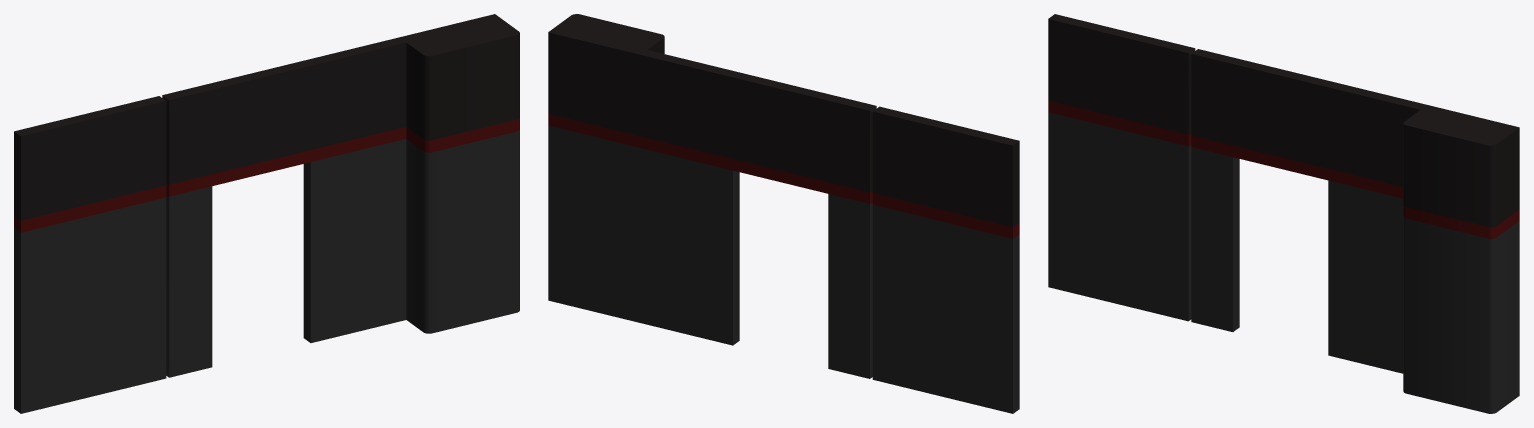
File: SM_wall_stc_01.fbx
3 views of the same model, side by side, from view 1: azimuth 30°, elevation 25°; view 2: azimuth 150°, elevation 25°; view 3: azimuth 330°, elevation 25° (orthographic). The views are drawn at different scales.
Parts seen in each view (by area): view 1: wall_stc_01; view 2: wall_stc_01; view 3: wall_stc_01.
Part boxes in pixels (x1,y1,x2,y2): wall_stc_01: (14,14,519,413); wall_stc_01: (548,14,1019,413); wall_stc_01: (1048,14,1519,413).
Bounding box in the file's own units: 955 × 526 × 93.71.
